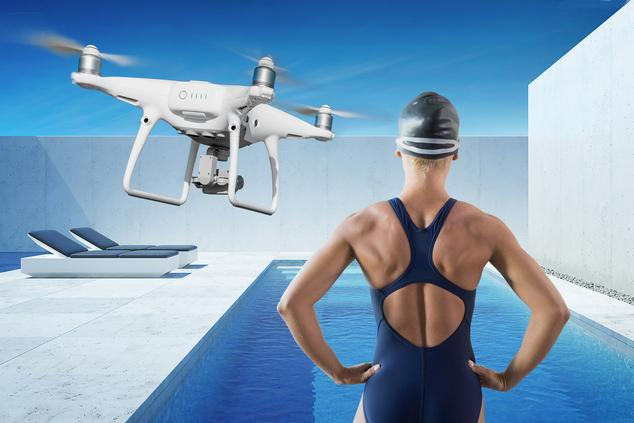drone: (8, 18, 371, 218)
